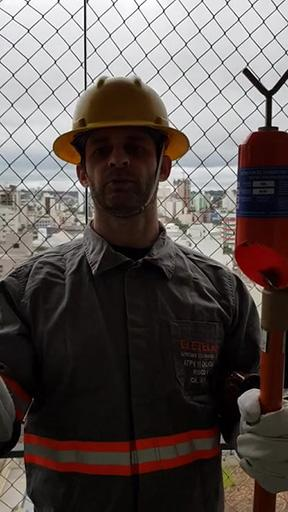Detector_Tensao_Contato: (236, 62, 288, 292)
